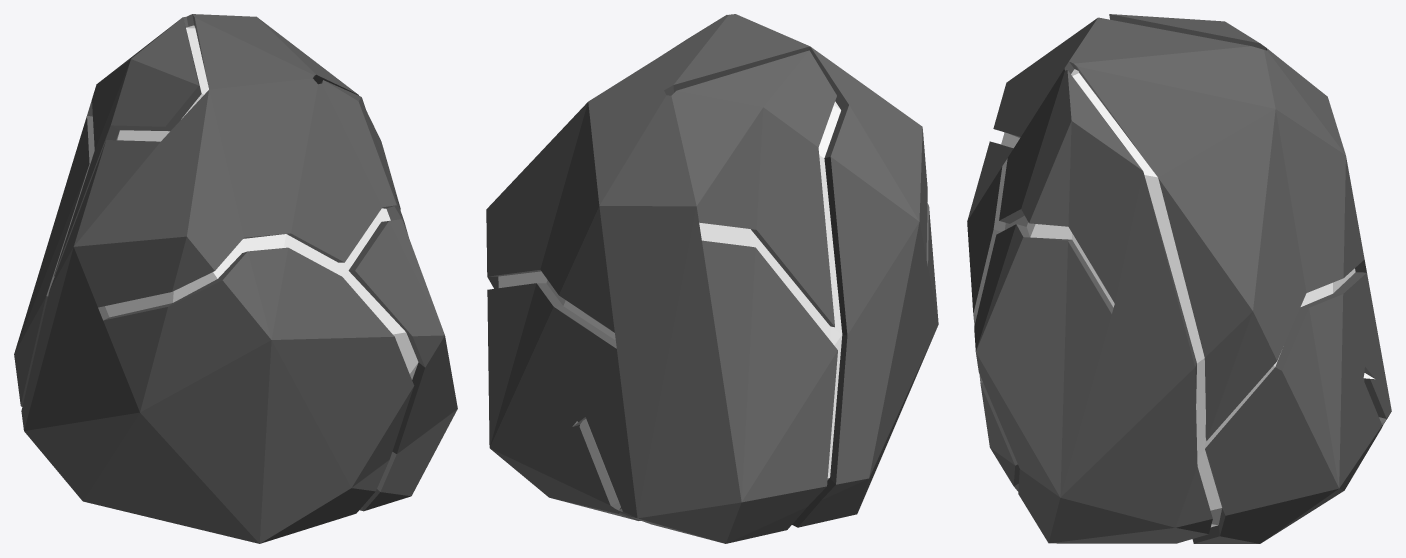
Rendered from LavaRock.fbx.
3 renders of one model, left to right at view 1: azimuth 30°, elevation 25°; view 2: azimuth 150°, elevation 25°; view 3: azimuth 270°, elevation 25°, orthographic.
Parts seen in each view (by area): view 1: Rock.002; view 2: Rock.002; view 3: Rock.002.
Boxes of the visible parts, bbox=[...] form: Rock.002: bbox=[14, 14, 457, 543]; Rock.002: bbox=[486, 14, 938, 543]; Rock.002: bbox=[967, 14, 1391, 543].
Size of the model in its own units: 3.86 by 3.77 by 4.31.
